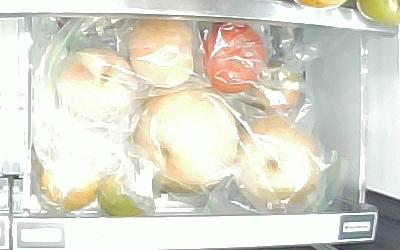peach_vinyl: (56, 45, 135, 118), (125, 17, 198, 88)
pear_vinyl: (132, 88, 238, 193), (231, 114, 321, 211)
tangerine_vinyl: (98, 173, 153, 218), (40, 168, 97, 211)
tomato_vinyl: (202, 22, 268, 93)
